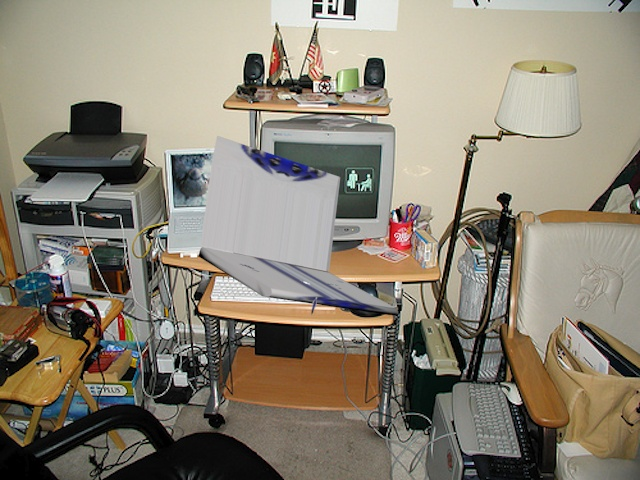laptop_computer: (193, 130, 400, 320)
